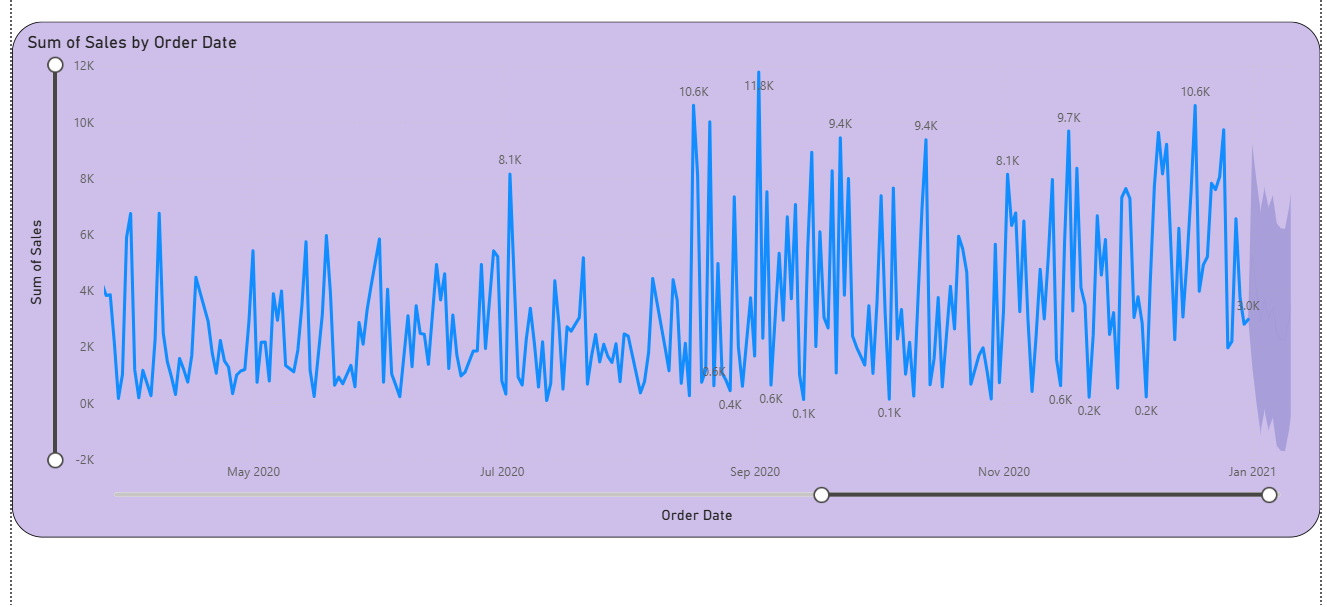

The page's visual inventory and layout, read from the dashboard file:
{"tool":"powerbi","page":{"name":"Page 2","canvas":[1280,720],"ordinal":1},"visuals":[{"type":"lineChart","fields":{"Y":["Sum(SuperStore_Sales_Dataset.Sales)"],"Category":["SuperStore_Sales_Dataset.Order Date"]},"box":[0,61.7,1280,505.1],"z":0}]}

Visuals, with their boxes on the page's 1280x720 design canvas (x1, y1, x2, y2). These are canvas units, not pixel positions in the 1327x607 screenshot, which may show the page scaled, cropped or inside an application window:
lineChart - Sum(SuperStore_Sales_Dataset.Sales) x SuperStore_Sales_Dataset.Order Date: box=[0, 62, 1280, 567]
